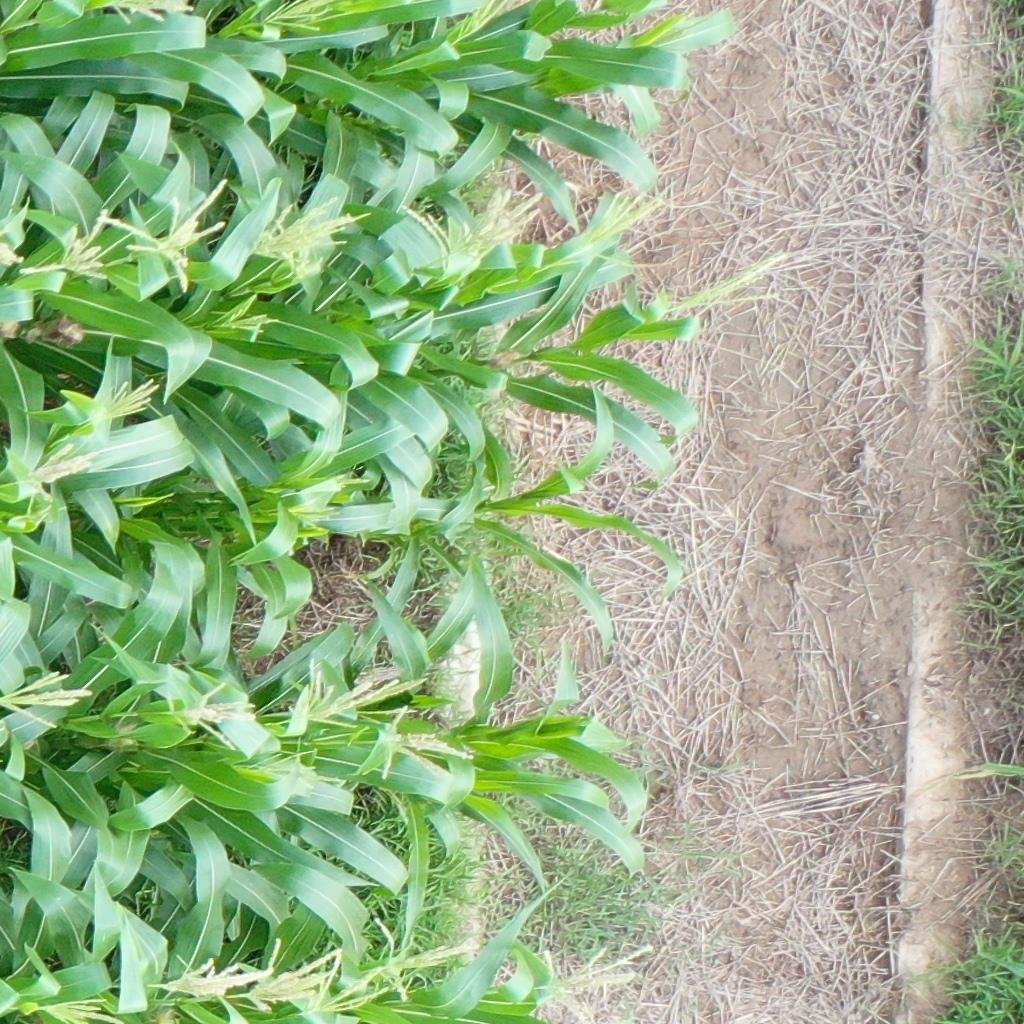Tassel: (402, 178, 544, 286), (102, 176, 234, 292), (646, 250, 798, 317), (366, 916, 479, 1002), (562, 183, 670, 270), (252, 200, 370, 272), (366, 707, 472, 779), (288, 656, 395, 727), (243, 937, 339, 1012), (538, 939, 653, 1000), (25, 208, 112, 284), (149, 955, 276, 1003), (176, 682, 257, 747), (309, 950, 391, 1014), (1, 673, 93, 730), (22, 440, 104, 499), (248, 748, 346, 796), (77, 378, 162, 430), (264, 1, 341, 40), (452, 1, 509, 43), (220, 295, 275, 336), (108, 1, 197, 26), (35, 998, 107, 1024), (1, 229, 26, 272)
